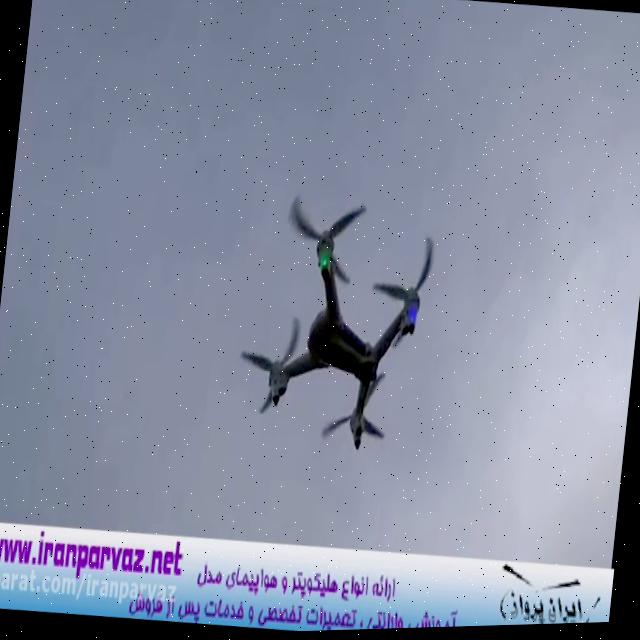drone: (226, 185, 444, 463)
